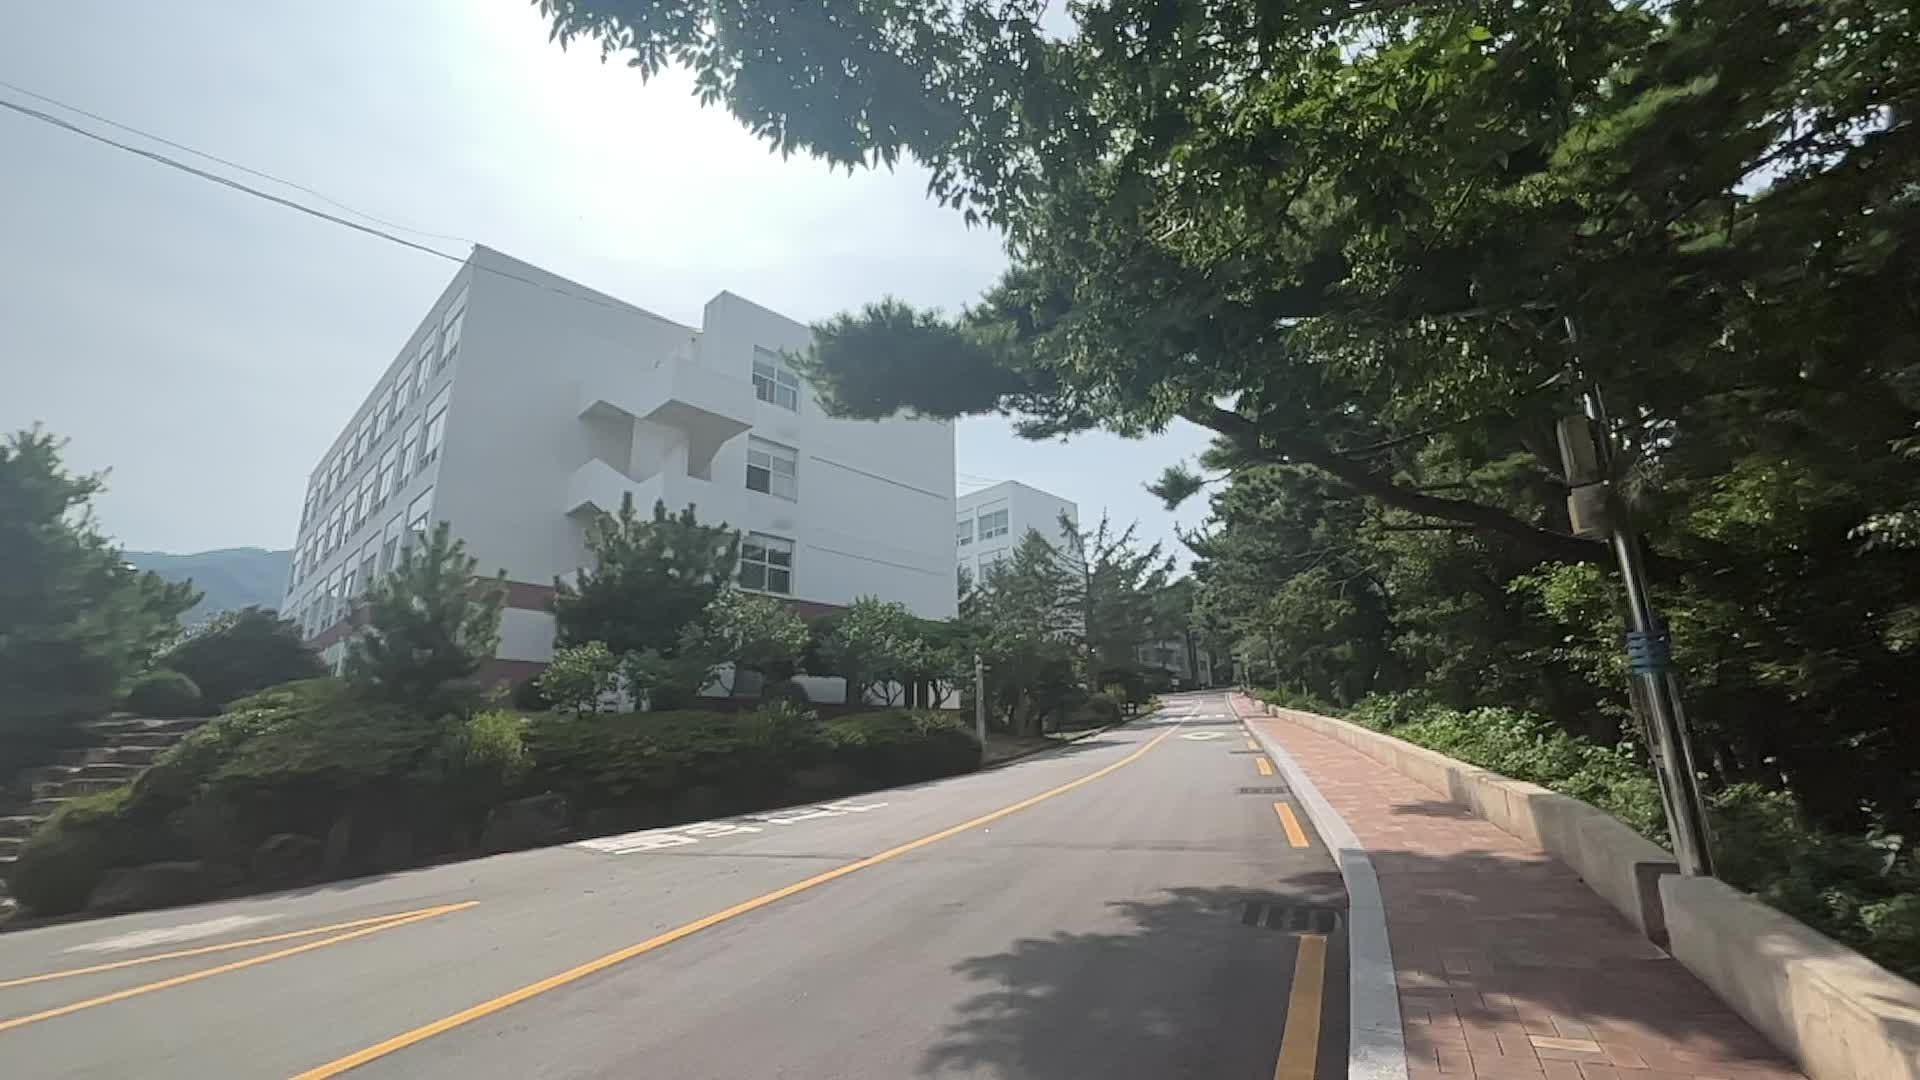building: (266, 255, 978, 632)
